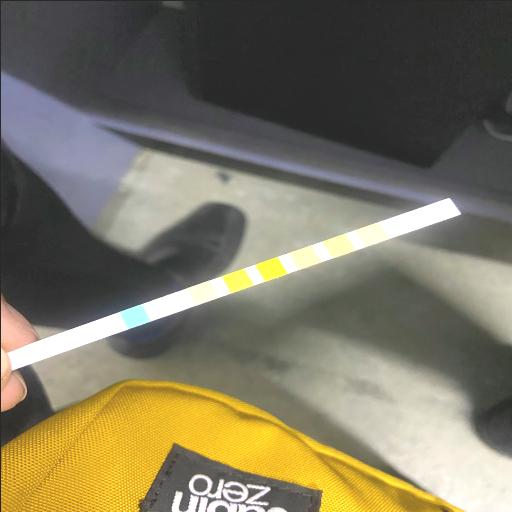Bilirubin: (158, 298, 178, 310)
Blood: (260, 262, 280, 274)
Glucose: (124, 310, 144, 322)
Ketone: (192, 286, 212, 296)
Leukocytes: (433, 203, 453, 214)
Nitrite: (396, 216, 416, 226)
Protein: (328, 239, 348, 250)
SpGravity: (227, 274, 246, 286)
Urobilinogen: (362, 228, 382, 238)
pH: (294, 251, 314, 261)
strip: (9, 199, 459, 366)
